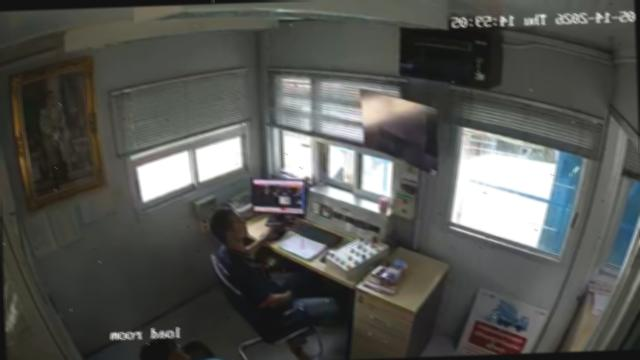Head: (207, 206, 252, 248), (138, 337, 196, 360)
People: (206, 207, 340, 321), (138, 339, 187, 359)
